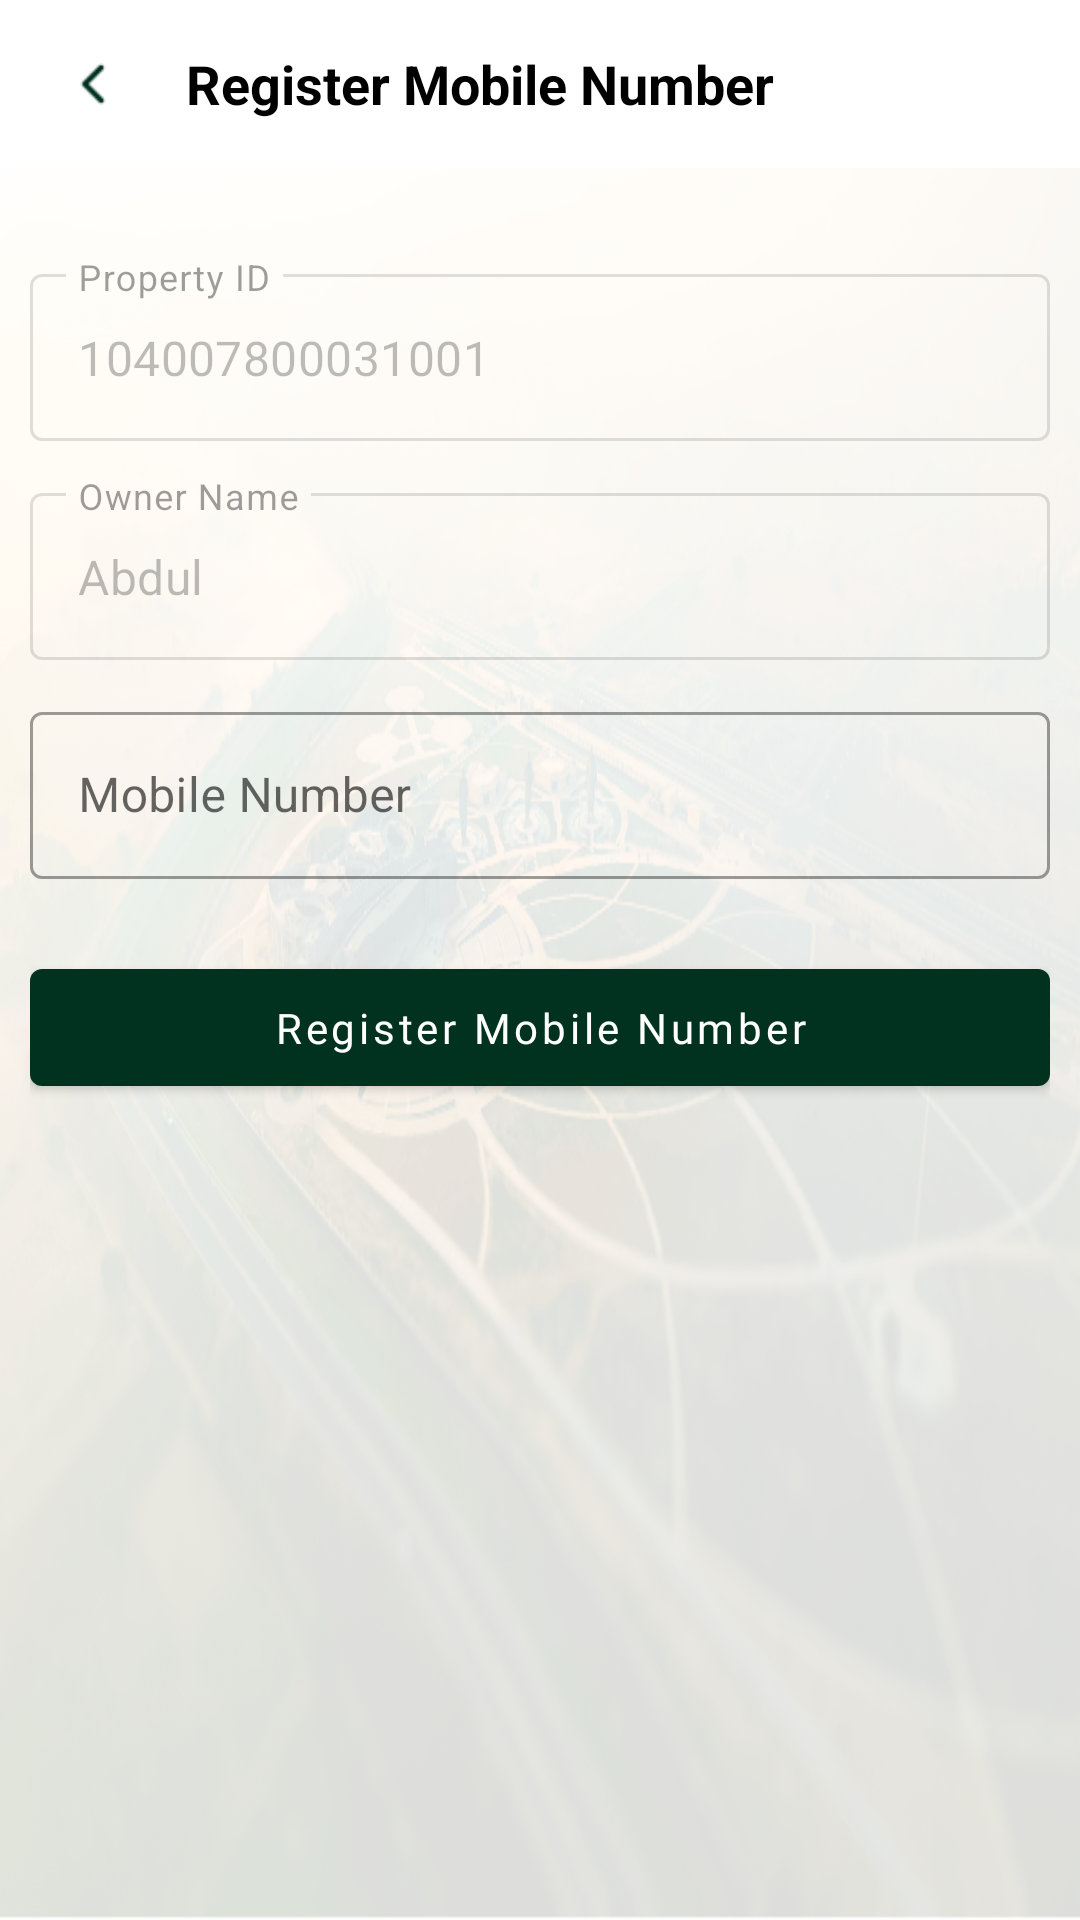

Icon bounding boxes for this 1080 × 1920 phone screenshot, format (x1, y1, x2, y2):
left: (81, 64, 105, 105)
